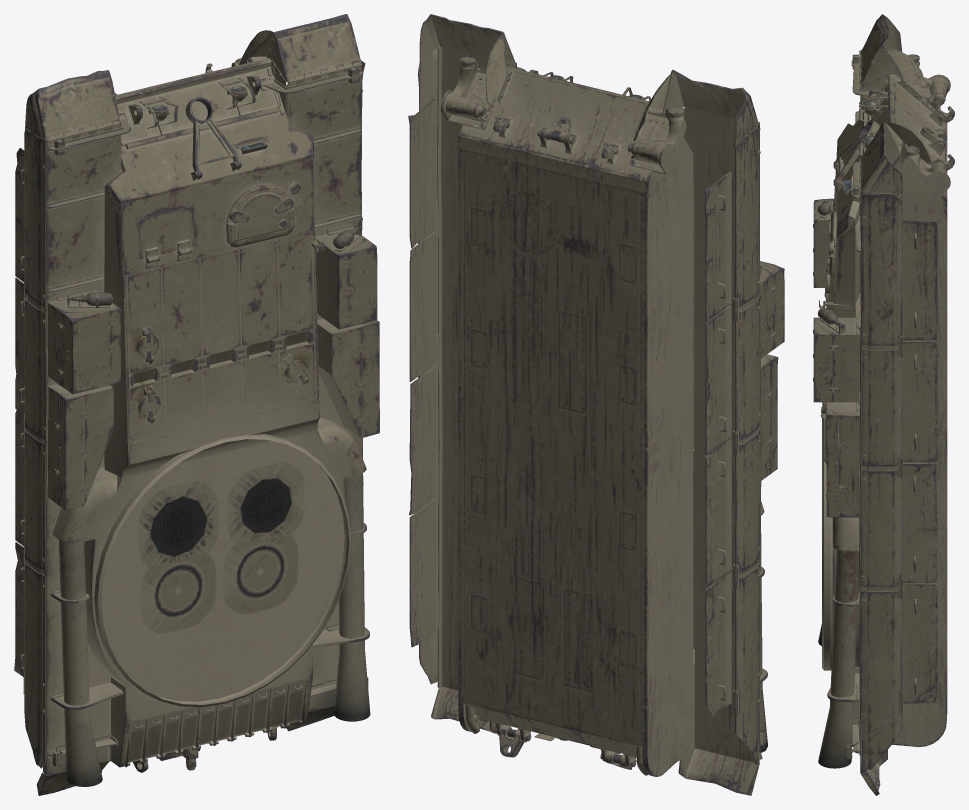
The model's file is Hull.glb.
3 renders of one model, left to right at view 1: azimuth 30°, elevation 25°; view 2: azimuth 150°, elevation 25°; view 3: azimuth 270°, elevation 25°, orthographic. The views are drawn at different scales.
Parts seen in each view (by area): view 1: set_0_group_0; view 2: set_0_group_0; view 3: set_0_group_0.
Part boxes in pixels (x1=…): set_0_group_0: x1=14, y1=14, x2=379, y2=795; set_0_group_0: x1=408, y1=14, x2=784, y2=795; set_0_group_0: x1=813, y1=14, x2=954, y2=795.
Bounding box in the file's own units: 3.71 × 7.72 × 1.54.
1 material, 1 textured.
